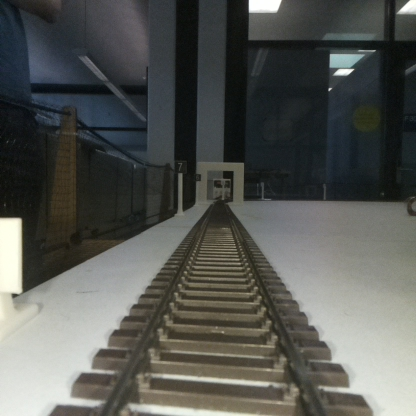black-info-7: (174, 160, 186, 216)
